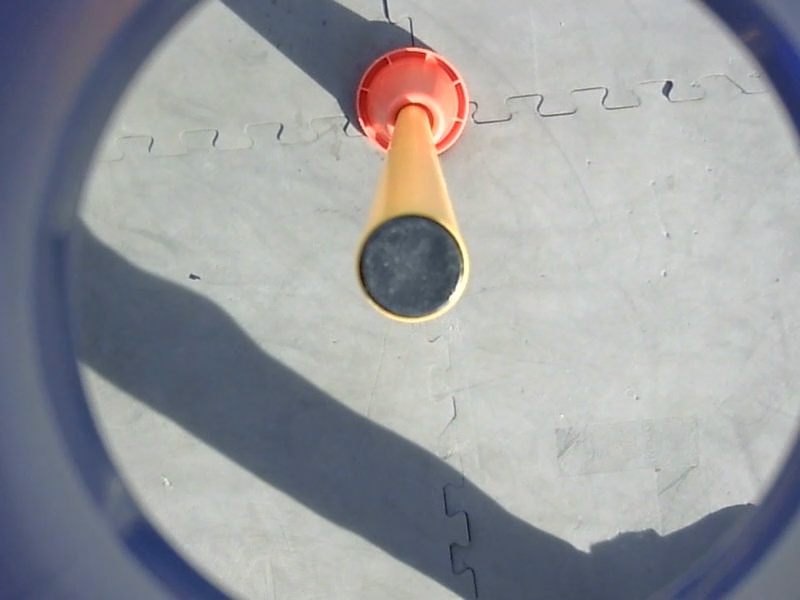tip: (348, 207, 478, 331)
